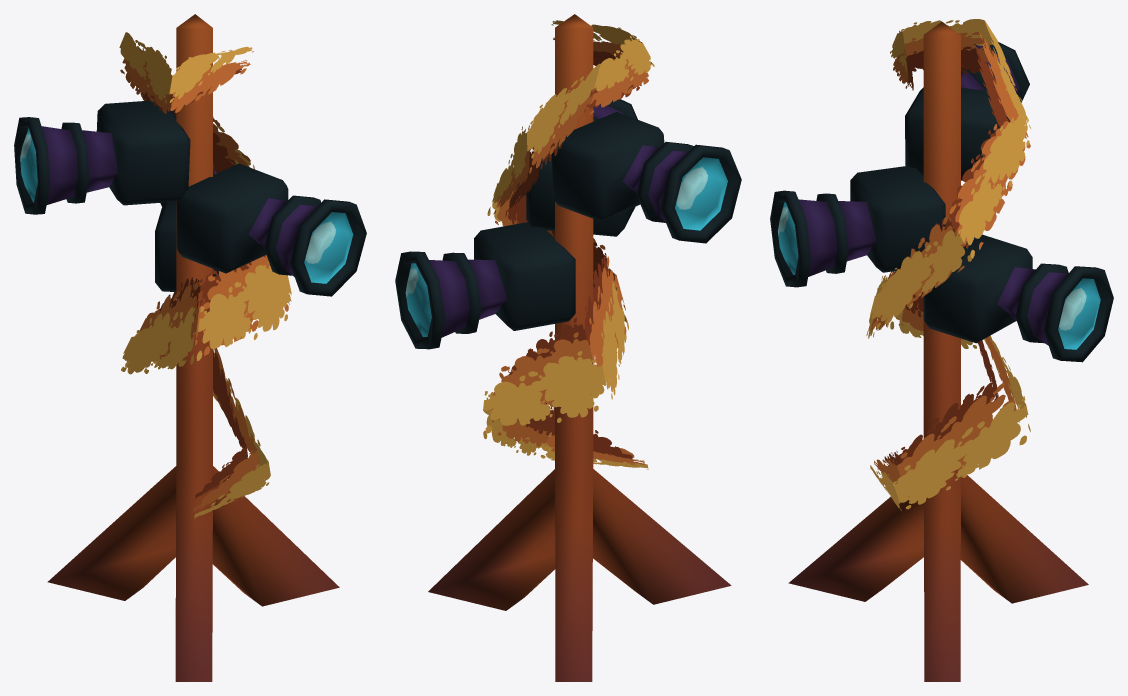
Rendered from MovementCam.fbx.
3 views of the same model, side by side, from view 1: azimuth 30°, elevation 25°; view 2: azimuth 150°, elevation 25°; view 3: azimuth 270°, elevation 25° (orthographic).
Visible parts, largest first — view 1: Cam; view 2: Cam; view 3: Cam.
Boxes of the visible parts, x1,y1,x2,y2 form: Cam: (14,14,366,681); Cam: (395,14,741,681); Cam: (770,19,1113,681).
Bounding box in the file's own units: 1.74 × 3.31 × 1.76.
